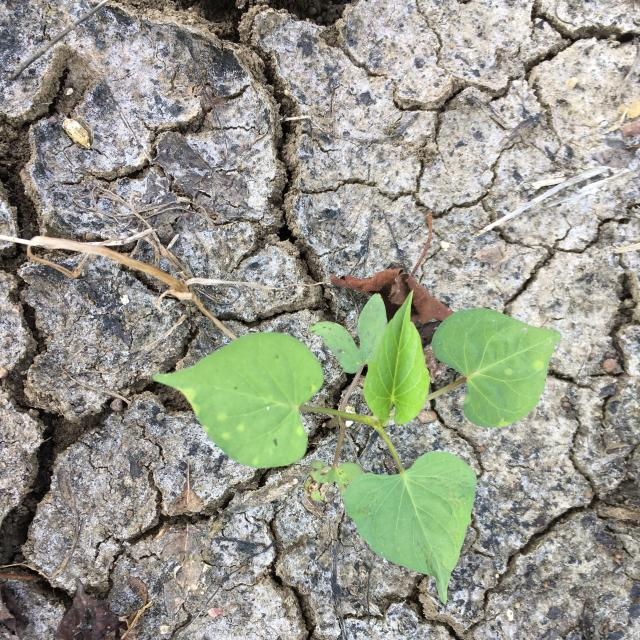MorningGlory: (152, 289, 562, 605)
